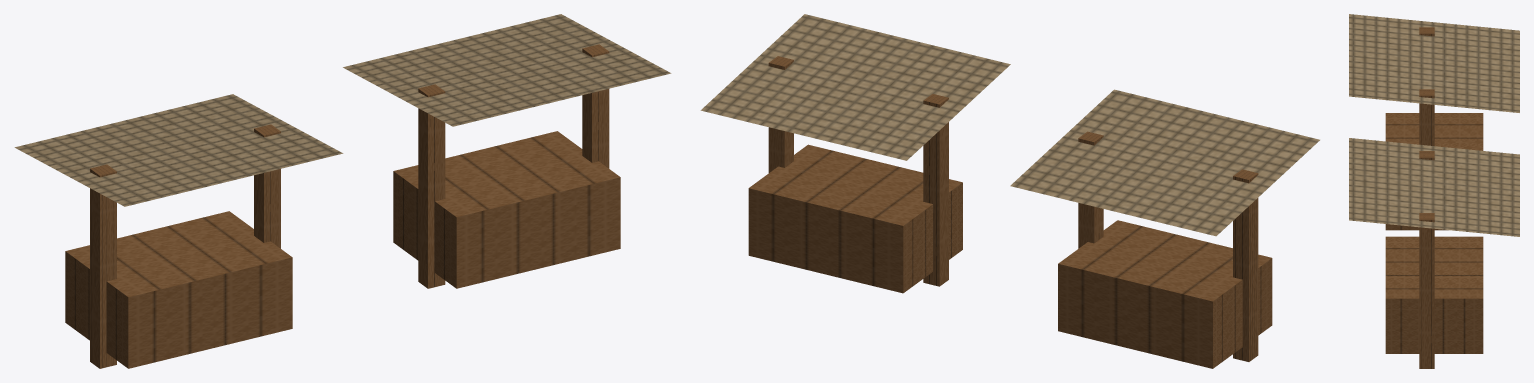
Rendered from domestic-MARKET-1-lod1.glb.
The picture shows the model from 3 angles, left to right: view 1: azimuth 30°, elevation 25°; view 2: azimuth 150°, elevation 25°; view 3: azimuth 270°, elevation 25°; orthographic projection. The views are drawn at different scales.
Bounding box in the file's own units: 0.8 × 0.28 × 0.28.
1 material, 1 textured.
